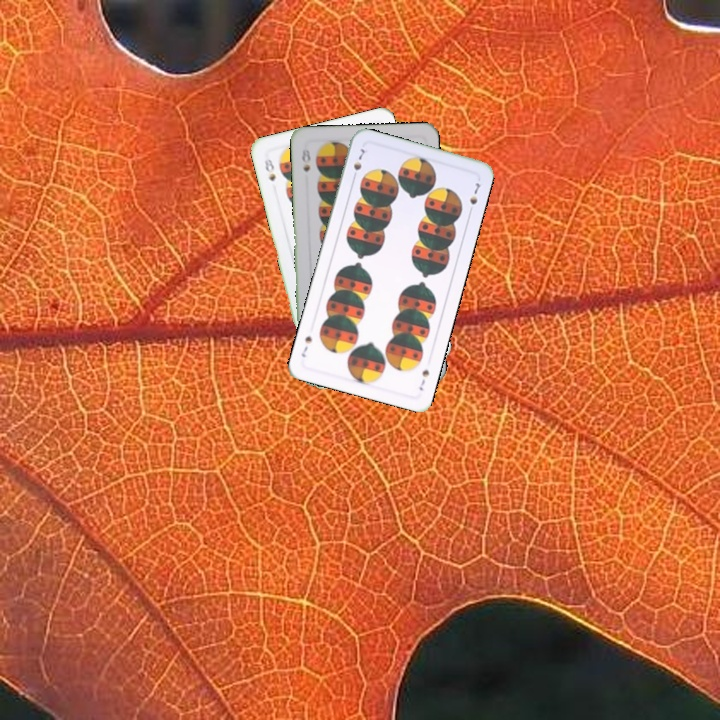S7: (348, 144, 367, 182), (415, 365, 432, 393)
S8: (260, 154, 278, 183), (298, 145, 313, 174)
